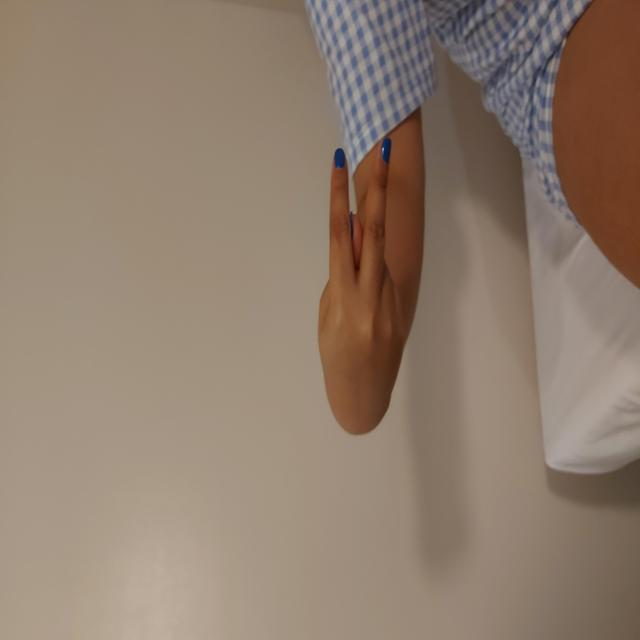K: (203, 316, 506, 404)
